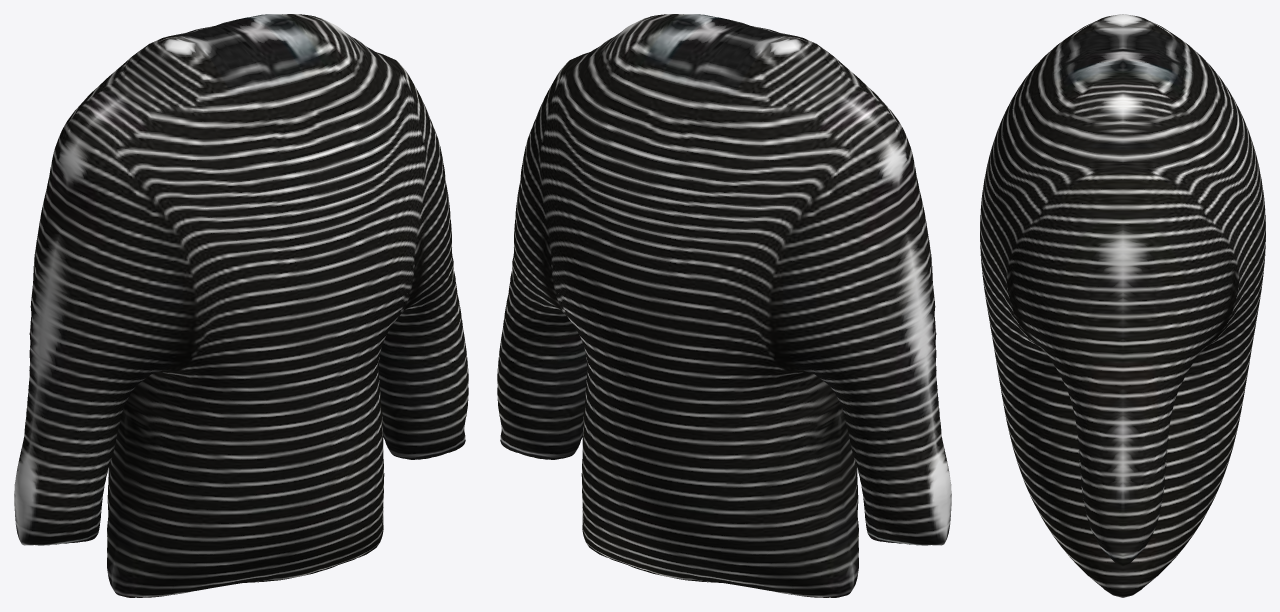
The model's file is mm_project.glb.
The picture shows the model from 3 angles, left to right: view 1: azimuth 30°, elevation 25°; view 2: azimuth 150°, elevation 25°; view 3: azimuth 270°, elevation 25°; orthographic projection. The views are drawn at different scales.
Size of the model in its own units: 4.6 by 5.43 by 2.83.
1 material, 1 textured.
